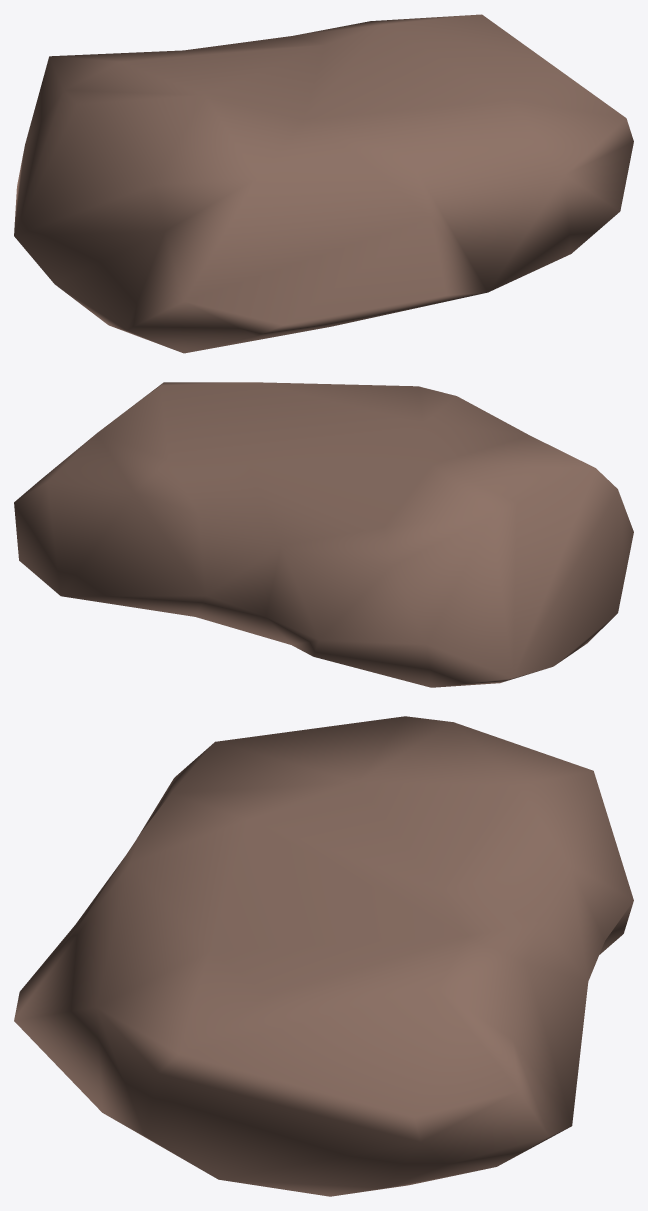
File: SM_SmallStone04.fbx
The picture shows the model from 3 angles, top to bottom: view 1: azimuth 30°, elevation 25°; view 2: azimuth 150°, elevation 25°; view 3: azimuth 270°, elevation 25°; orthographic projection. The views are drawn at different scales.
Visible parts, largest first — view 1: SM_SmallStone04; view 2: SM_SmallStone04; view 3: SM_SmallStone04.
Boxes of the visible parts, x1,y1,x2,y2 form: SM_SmallStone04: [14, 14, 633, 353]; SM_SmallStone04: [14, 382, 633, 687]; SM_SmallStone04: [14, 716, 633, 1196].
Size of the model in its own units: 42.16 by 16.23 by 36.05.
